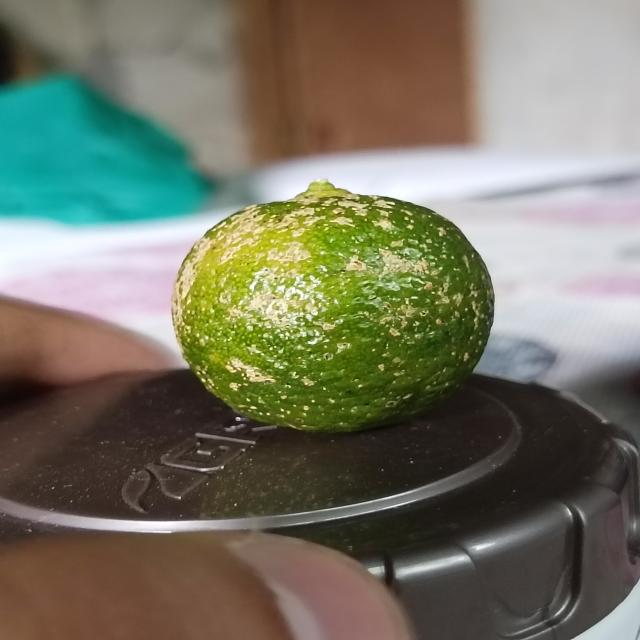scab: (166, 185, 504, 440)
